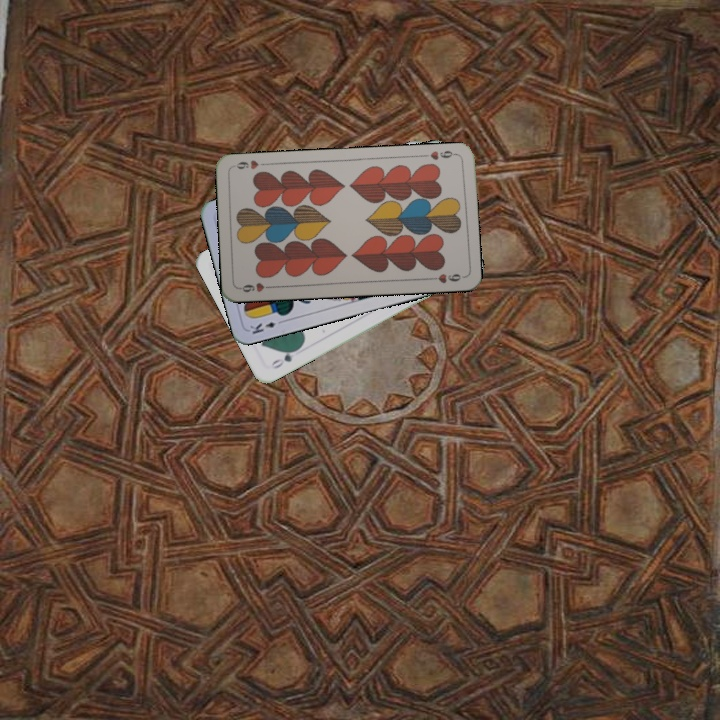EK: (246, 316, 287, 337)
GO: (267, 344, 302, 371)
H9: (418, 146, 459, 163), (236, 279, 277, 295)
